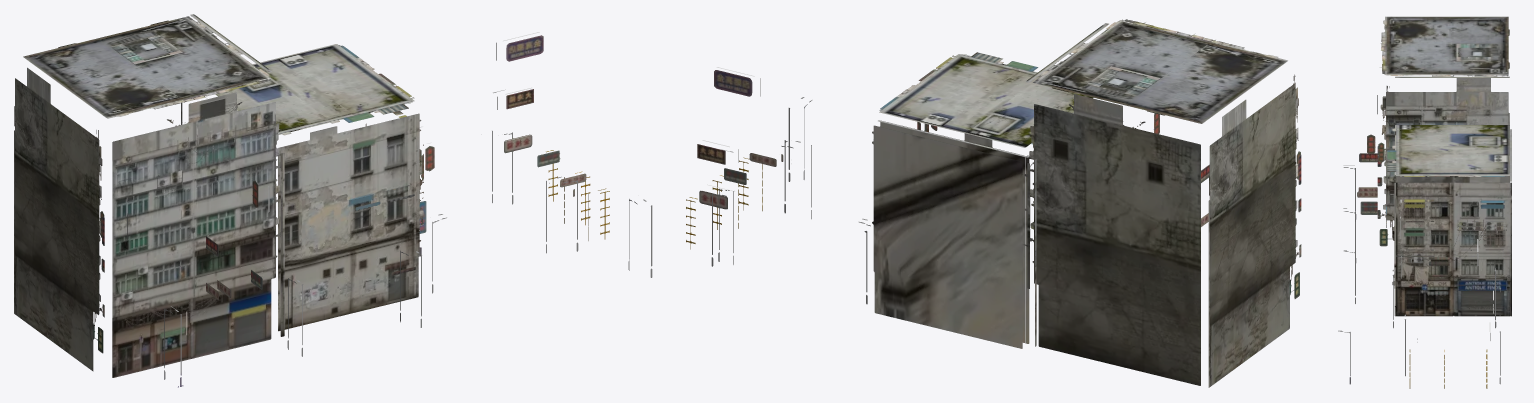
The model's file is block-hkiv-1-imp.glb.
The picture shows the model from 3 angles, left to right: view 1: azimuth 30°, elevation 25°; view 2: azimuth 150°, elevation 25°; view 3: azimuth 270°, elevation 25°; orthographic projection. The views are drawn at different scales.
Parts seen in each view (by area): view 1: block-hkiv-1-imp; view 2: block-hkiv-1-imp; view 3: block-hkiv-1-imp.
Boxes of the visible parts, x1,y1,x2,y2 form: block-hkiv-1-imp: (14, 14, 652, 387); block-hkiv-1-imp: (686, 19, 1301, 387); block-hkiv-1-imp: (1338, 16, 1511, 388).
Bounding box in the file's own units: 70.5 × 32.75 × 30.
1 material, 1 textured.
